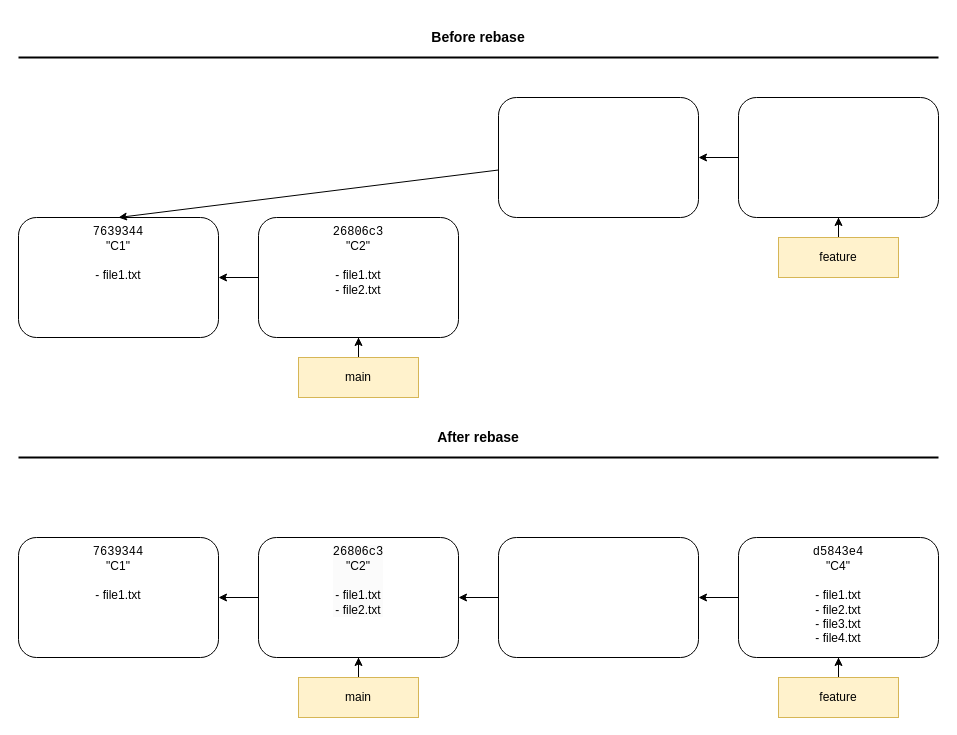
The diagram is 957 pixels wide and 735 high, and some of its shapes have lost their labels. The centre of each missing label's shape, as x and y in pixels:
1e8657b "C3" - file1.txt -file3.txt: pixel 598 157
3aa6d72 "C4" - file1.txt - file3.txt - file4.txt: pixel 838 157
ffd1adb "C3" - file1.txt - file2.txt - file3.txt: pixel 598 597
